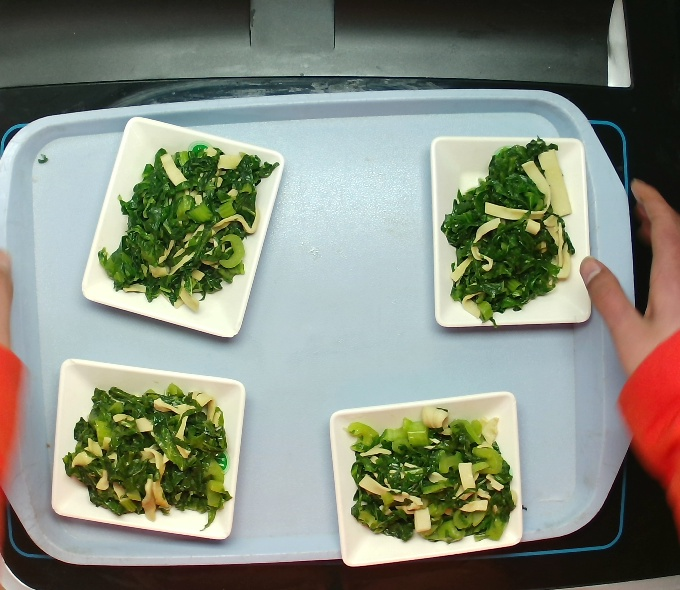wcq-QingCaiChaoQianZhang: (88, 131, 279, 317), (53, 379, 247, 524), (334, 404, 522, 550), (446, 132, 587, 326)
